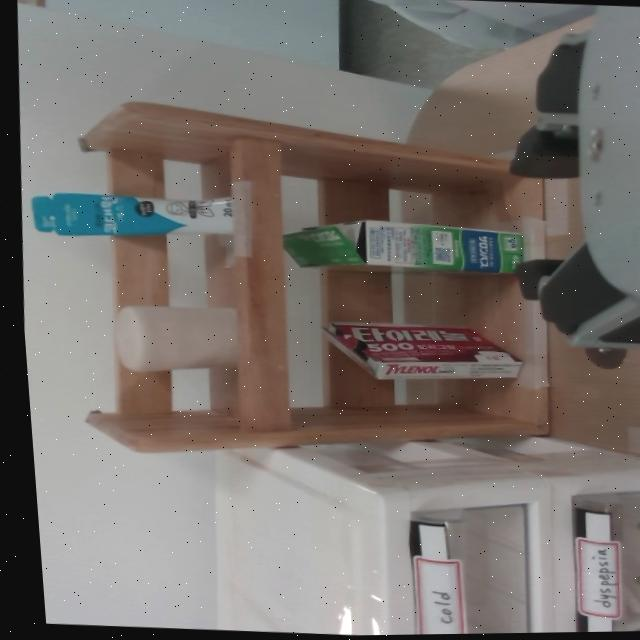bandage: (113, 300, 246, 378)
codaewon_syrup: (29, 189, 238, 243)
sore_patch: (276, 215, 524, 278)
tylenol: (322, 316, 525, 389)
